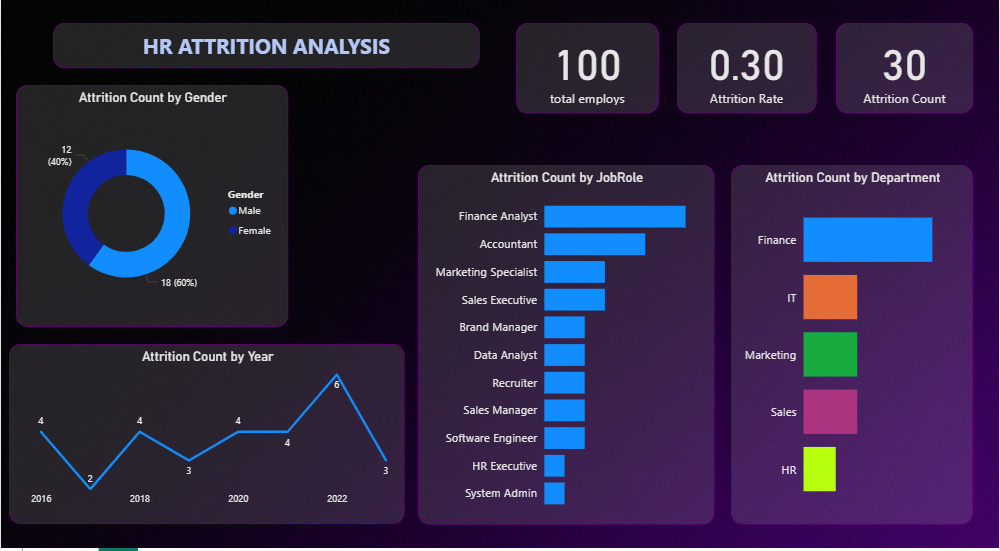

The dashboard page shown, as its layout file describes it:
{"tool":"powerbi","page":{"name":"Page 1","canvas":[1280,720],"ordinal":0},"visuals":[{"type":"card","fields":{"Values":["Sheet1.total employs"]},"box":[660.6,29.8,182.9,116.2],"z":0},{"type":"card","fields":{"Values":["Sheet1.Attrition Rate"]},"box":[866.1,29.8,178.6,116.2],"z":1000},{"type":"card","fields":{"Values":["Sheet1.Attrition Count"]},"box":[1070.2,29.8,175.8,116.2],"z":2000},{"type":"barChart","fields":{"Category":["Sheet1.Department"],"Y":["Sheet1.Attrition Count"]},"box":[935.5,211.2,310.4,460.7],"z":3000},{"type":"donutChart","fields":{"Category":["Sheet1.Gender"],"Y":["Sheet1.Attrition Count"]},"box":[19.8,109.1,348.7,310.4],"z":4000},{"type":"lineChart","fields":{"Y":["Sheet1.Attrition Count"],"Category":["Sheet1.DateOfJoining.Variation.Date Hierarchy.Year"]},"box":[9.9,440.8,507.5,231.1],"z":5000},{"type":"clusteredBarChart","fields":{"Category":["Sheet1.JobRole"],"Y":["Sheet1.Attrition Count"]},"box":[534.4,211.2,379.9,460.7],"z":6000},{"type":"textbox","box":[66.6,29.8,547.2,58.1],"z":6001}]}

Visuals, with their boxes in screenshot pixels (x1, y1, x2, y2), scaled from the page's 1280x720 canvas onto the 1000x551 screenshot:
card - Sheet1.total employs: region(516, 23, 659, 112)
card - Sheet1.Attrition Rate: region(677, 23, 816, 112)
card - Sheet1.Attrition Count: region(836, 23, 973, 112)
barChart - Sheet1.Department x Sheet1.Attrition Count: region(731, 162, 973, 514)
donutChart - Sheet1.Gender x Sheet1.Attrition Count: region(15, 83, 288, 321)
lineChart - Sheet1.Attrition Count x Sheet1.DateOfJoining.Variation.Date Hierarchy.Year: region(8, 337, 404, 514)
clusteredBarChart - Sheet1.JobRole x Sheet1.Attrition Count: region(418, 162, 714, 514)
textbox: region(52, 23, 480, 67)
